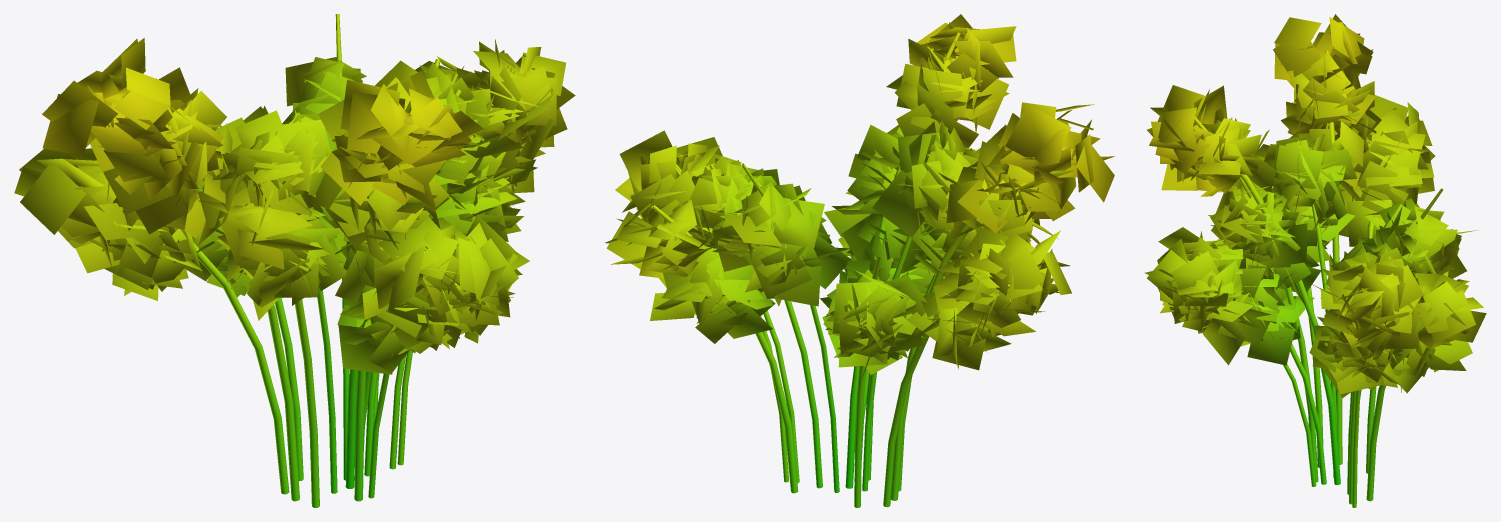
Rendered from bamboo_a.glb.
3 views of the same model, side by side, from view 1: azimuth 30°, elevation 25°; view 2: azimuth 150°, elevation 25°; view 3: azimuth 270°, elevation 25° (orthographic). The views are drawn at different scales.
Visible parts, largest first — view 1: bamboo_a; view 2: bamboo_a; view 3: bamboo_a.
Boxes of the visible parts, x1,y1,x2,y2 form: bamboo_a: [14, 14, 575, 507]; bamboo_a: [605, 14, 1114, 507]; bamboo_a: [1144, 14, 1486, 507].
Bounding box in the file's own units: 8.56 × 7.54 × 6.11.
